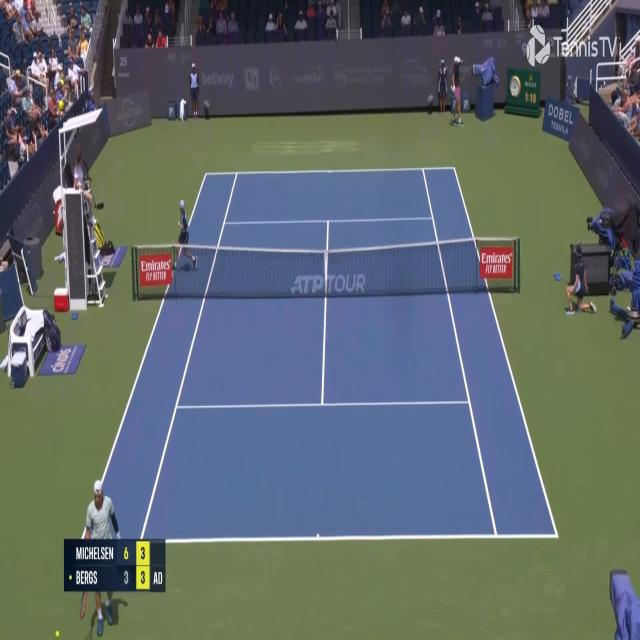tennis-player: (78, 476, 127, 640), (449, 51, 466, 131)
